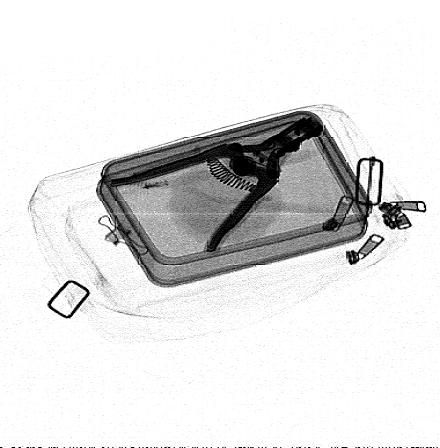Pliers: (109, 115, 322, 256)
